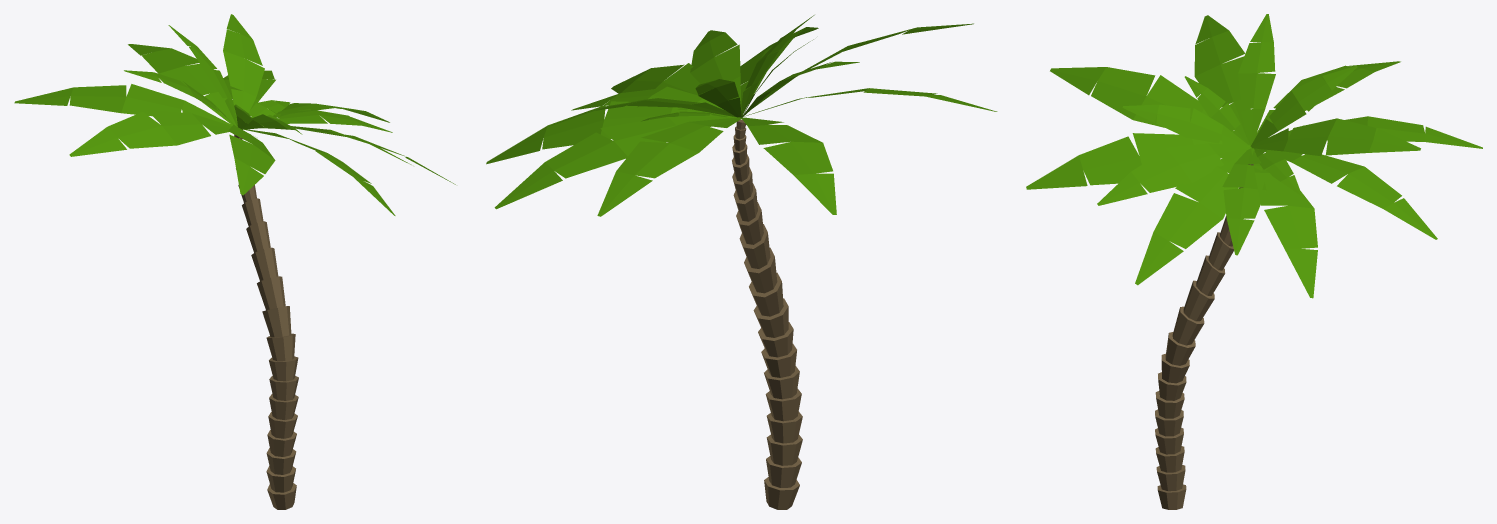
The model's file is Palm Tree.glb.
The picture shows the model from 3 angles, left to right: view 1: azimuth 30°, elevation 25°; view 2: azimuth 150°, elevation 25°; view 3: azimuth 270°, elevation 25°; orthographic projection. The views are drawn at different scales.
Visible parts, largest first — view 1: Plane, Cube; view 2: Plane, Cube; view 3: Plane, Cube.
Part boxes in pixels (x1,y1,x2,y2): Plane: (14,14,455,215); Cube: (234,134,298,509); Plane: (486,15,997,216); Cube: (732,119,802,509); Plane: (1026,14,1482,298); Cube: (1155,164,1253,509).
Size of the model in its own units: 15.17 by 16.73 by 15.8.
